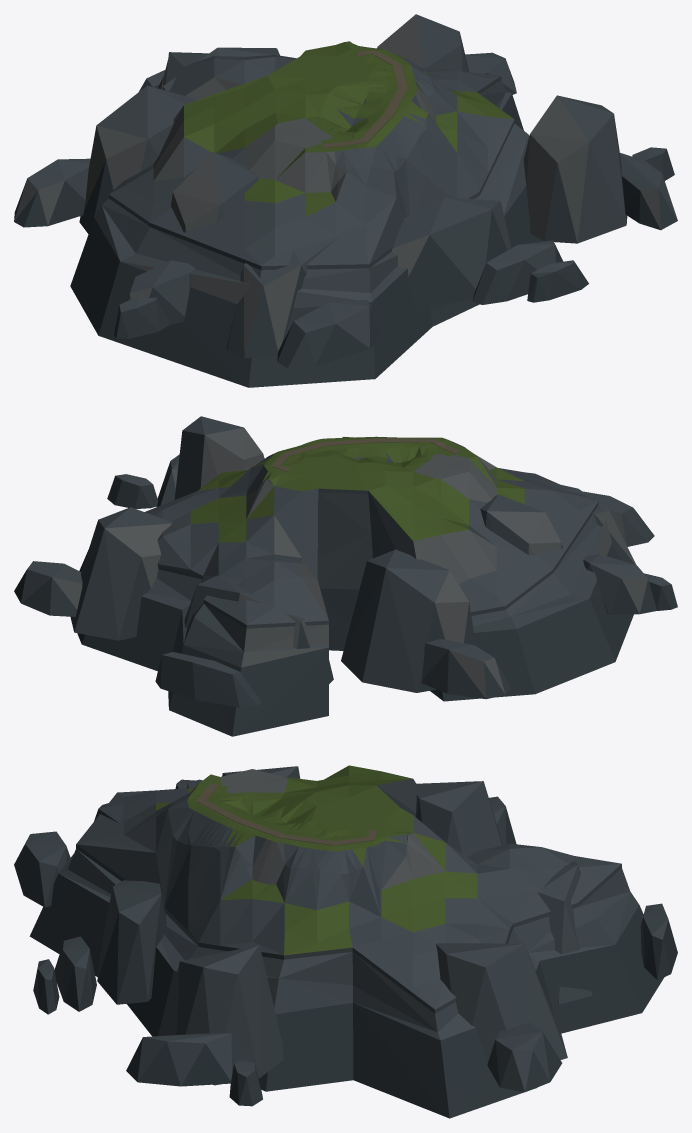
Rendered from island_c.glb.
3 views of the same model, one above another, from view 1: azimuth 30°, elevation 25°; view 2: azimuth 150°, elevation 25°; view 3: azimuth 270°, elevation 25° (orthographic). The views are drawn at different scales.
Visible parts, largest first — view 1: island_c_Coast blue grey bedrock, island_c_Coast short olive grass, island_c_Coast weathered stone footpath; view 2: island_c_Coast blue grey bedrock, island_c_Coast short olive grass, island_c_Coast weathered stone footpath; view 3: island_c_Coast blue grey bedrock, island_c_Coast short olive grass, island_c_Coast weathered stone footpath.
Boxes of the visible parts, left/top/right/bottom form: island_c_Coast blue grey bedrock: left=14, top=14, right=677, bottom=387; island_c_Coast short olive grass: left=109, top=41, right=514, bottom=270; island_c_Coast weathered stone footpath: left=322, top=50, right=407, bottom=148; island_c_Coast blue grey bedrock: left=14, top=416, right=677, bottom=736; island_c_Coast short olive grass: left=145, top=436, right=598, bottom=628; island_c_Coast weathered stone footpath: left=272, top=438, right=460, bottom=471; island_c_Coast blue grey bedrock: left=14, top=766, right=677, bottom=1118; island_c_Coast short olive grass: left=76, top=765, right=621, bottom=1013; island_c_Coast weathered stone footpath: left=197, top=783, right=378, bottom=845.
Bounding box in the file's own units: 97.65 × 27.03 × 90.14.
